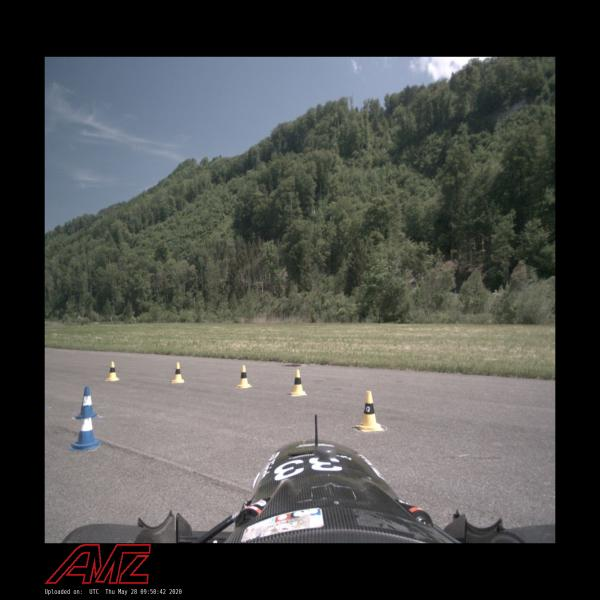blue_cone: (68, 406, 102, 450), (74, 386, 98, 419)
yellow_cone: (356, 390, 383, 432), (288, 370, 306, 398), (236, 366, 252, 388), (106, 361, 120, 382), (171, 363, 184, 384)
